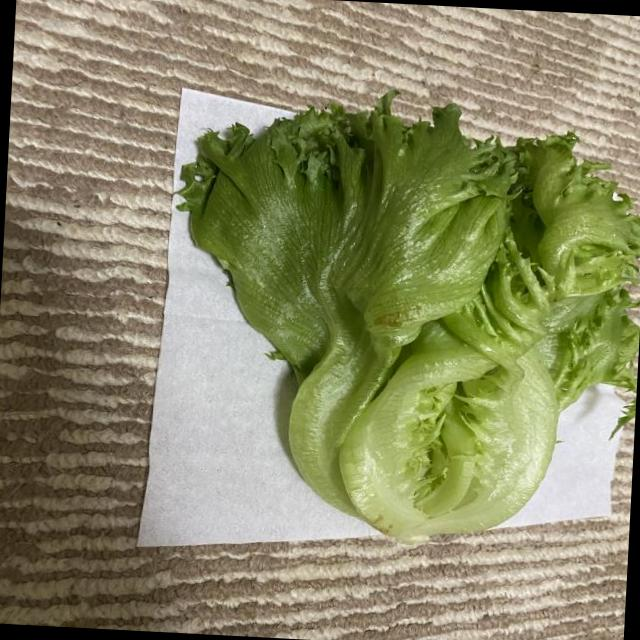Lettuce-Ready-to-Harvest: (181, 95, 640, 542)
